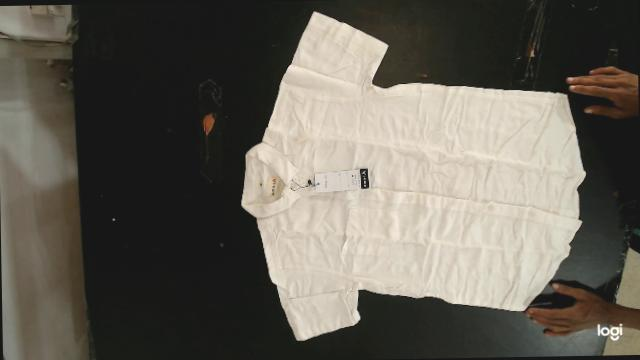new-garment: (241, 11, 585, 340), (362, 133, 366, 136)
